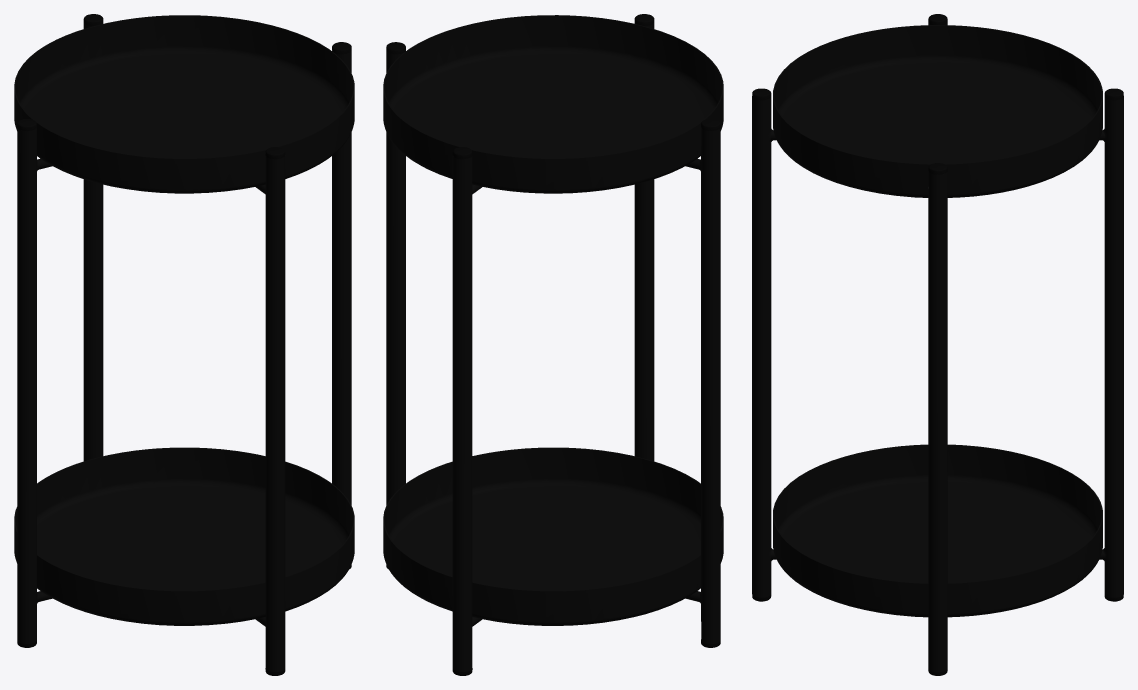
The model's file is 24 - OLIVBLAD Plant stand - inoutdoor black 35 cm.glb.
3 views of the same model, side by side, from view 1: azimuth 30°, elevation 25°; view 2: azimuth 150°, elevation 25°; view 3: azimuth 270°, elevation 25° (orthographic). The views are drawn at different scales.
Parts seen in each view (by area): view 1: Mesh_0; view 2: Mesh_0; view 3: Mesh_0.
Part boxes in pixels (<box>): Mesh_0: <box>14,14,354,675</box>; Mesh_0: <box>383,14,723,675</box>; Mesh_0: <box>752,14,1123,675</box>.
Size of the model in its own units: 0.233 by 0.35 by 0.233.
Materials: 1 (1 with a texture image).
